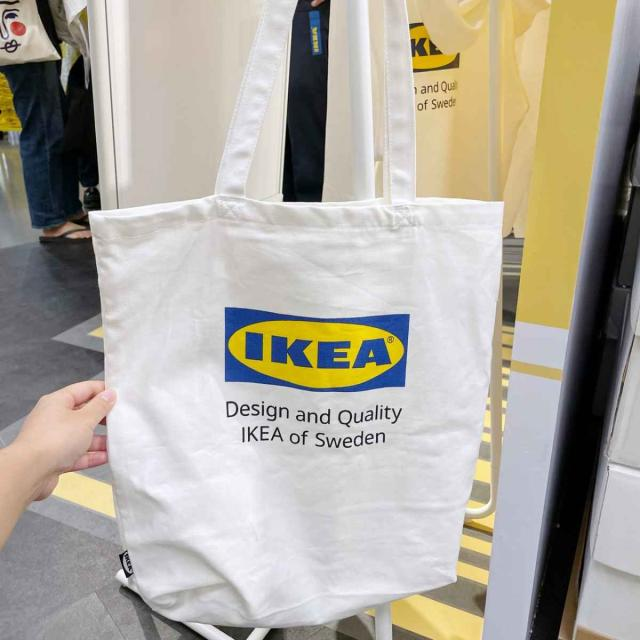Handbag: (77, 167, 499, 640)
